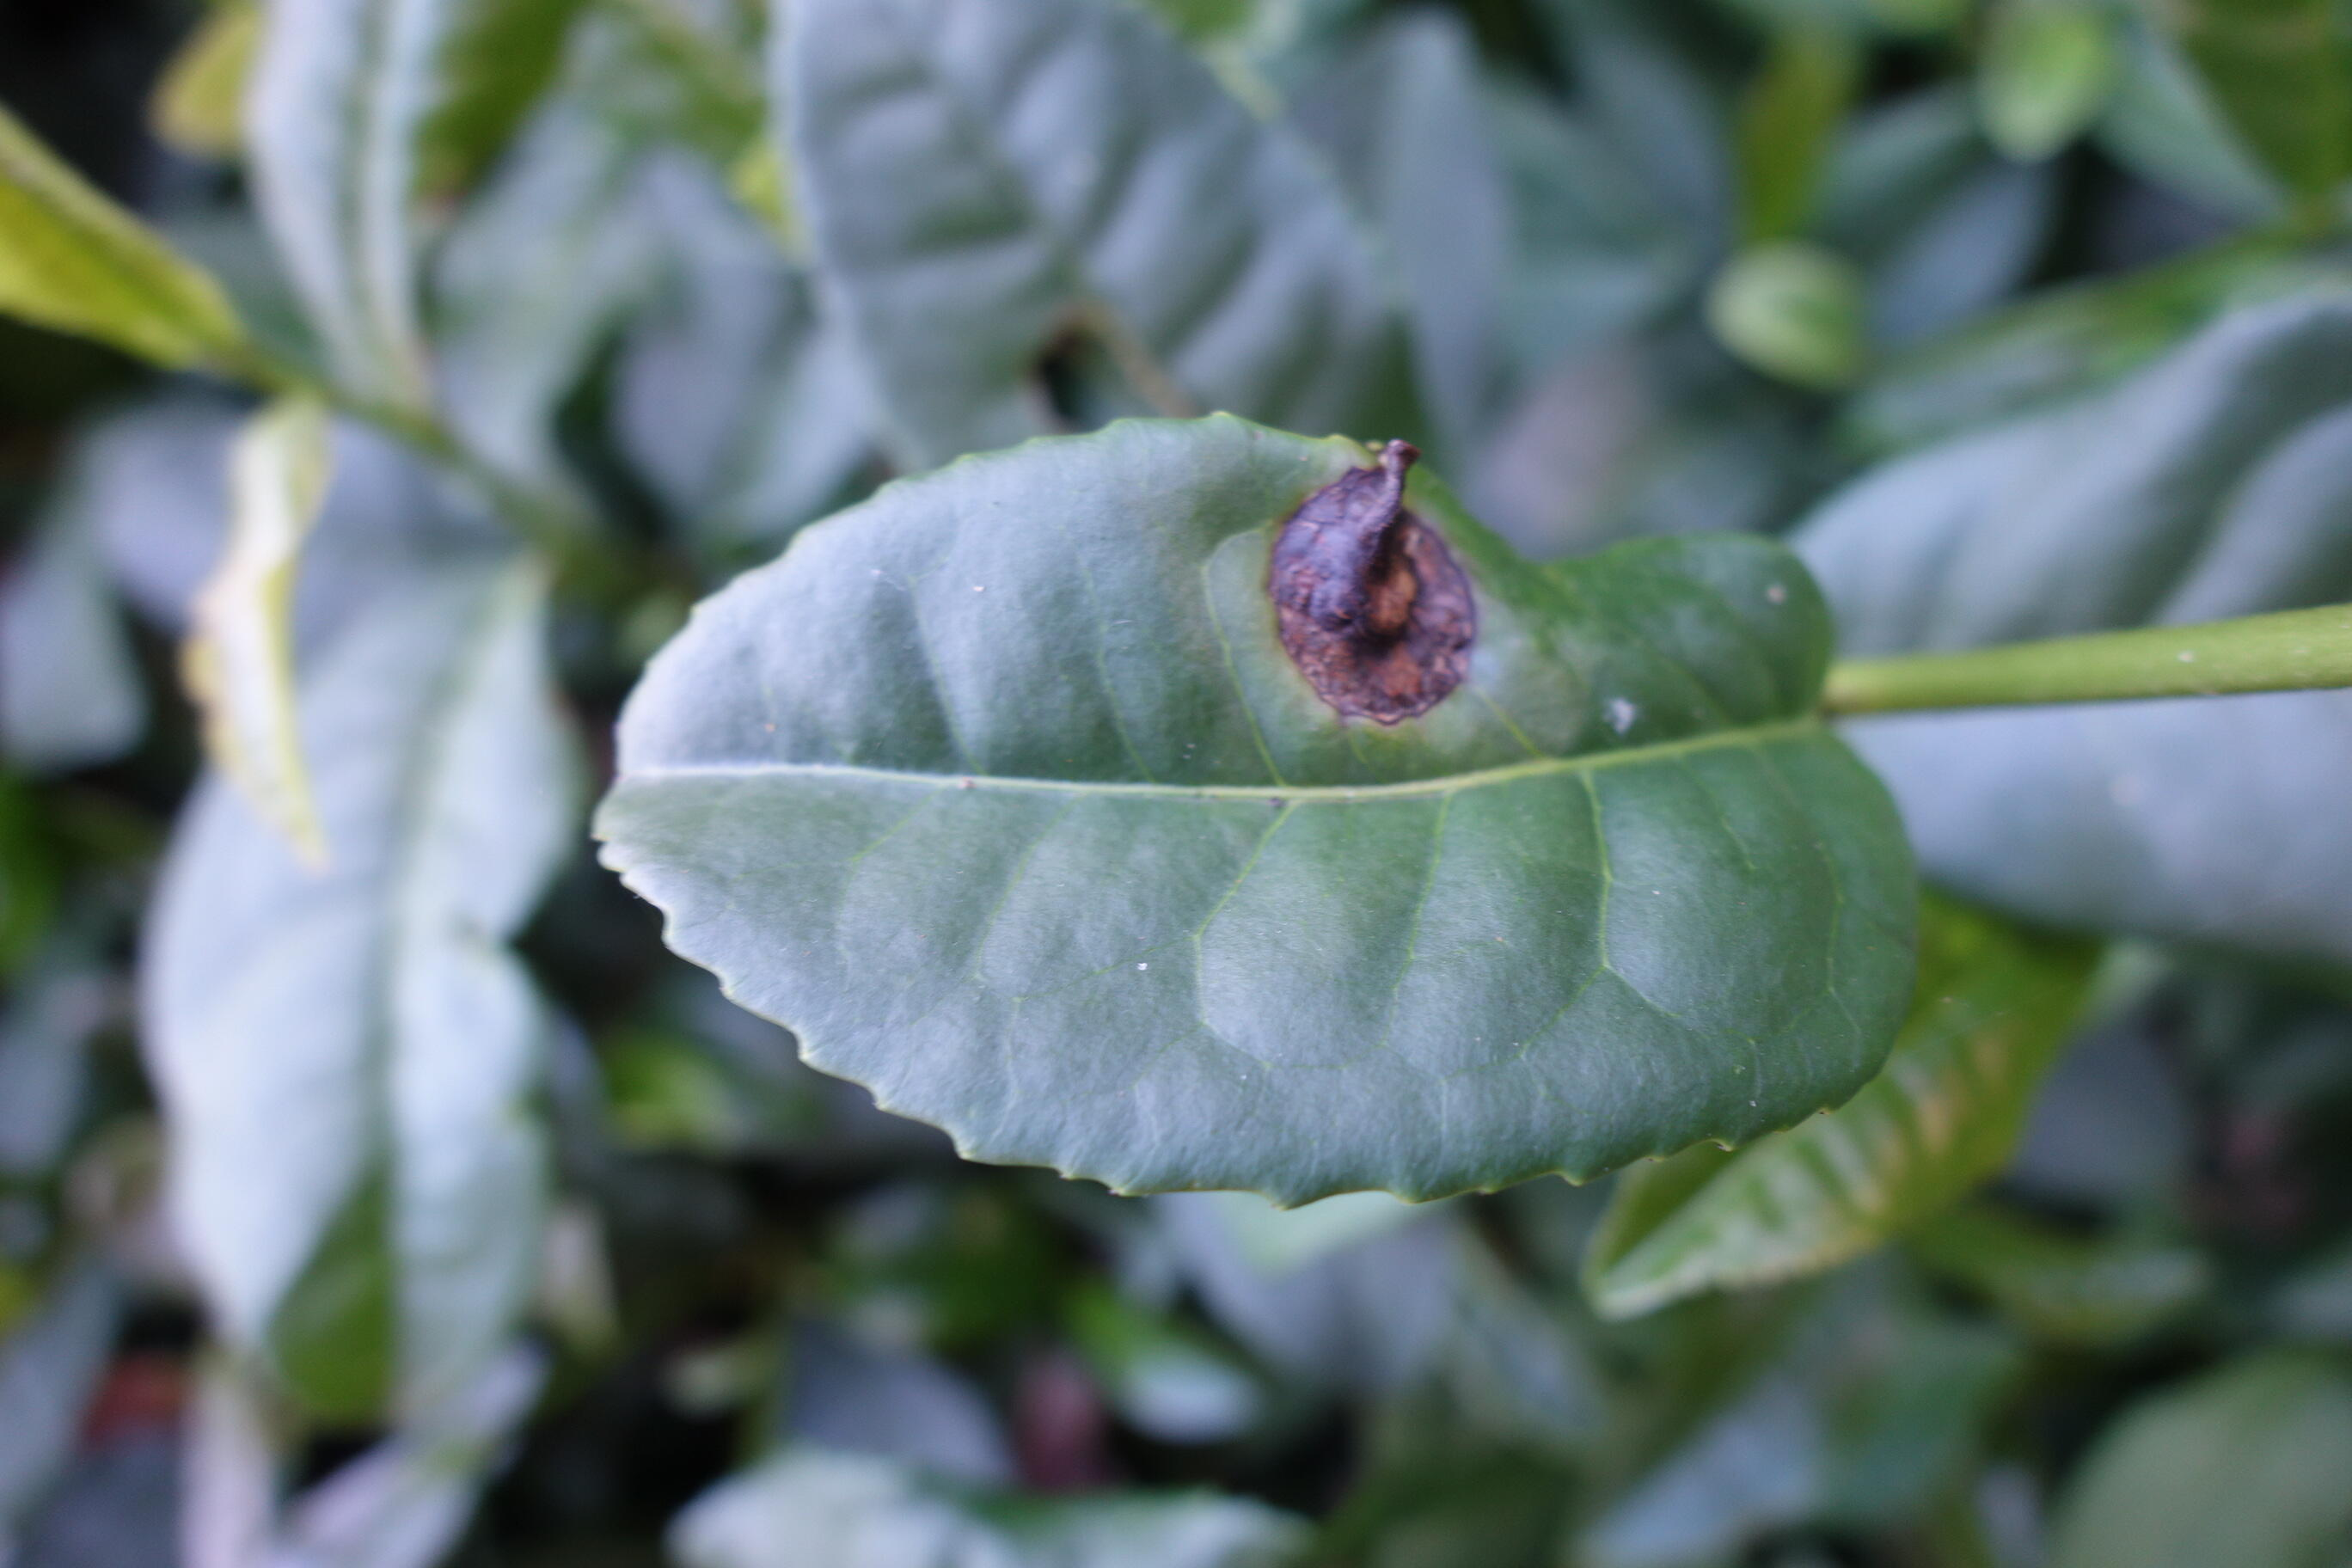tanju_high: (590, 408, 1925, 1204)
